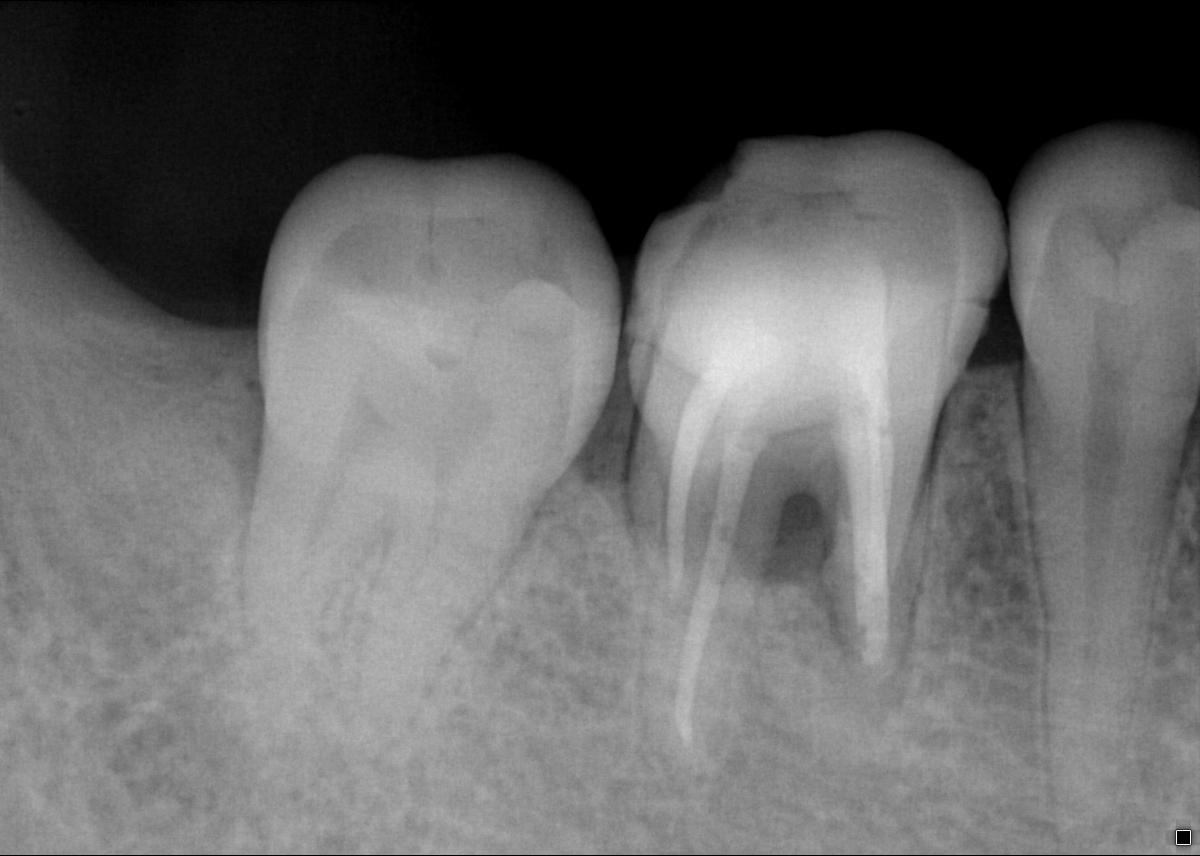Endo-Periodontal Lesion: (762, 489, 858, 659)
